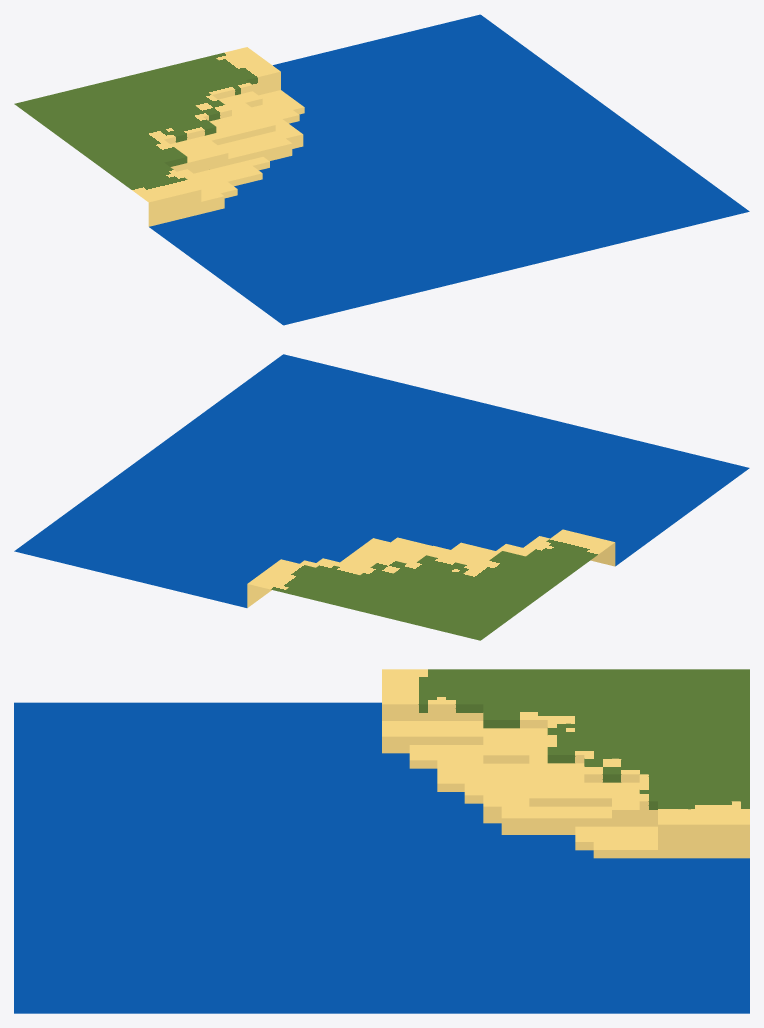
File: LWWW(1).glb
3 renders of one model, top to bottom at view 1: azimuth 30°, elevation 25°; view 2: azimuth 150°, elevation 25°; view 3: azimuth 270°, elevation 25°, orthographic. The views are drawn at different scales.
Parts seen in each view (by area): view 1: model_0; view 2: model_0; view 3: model_0.
Boxes of the visible parts, x1,y1,x2,y2 form: model_0: [14, 14, 749, 325]; model_0: [14, 354, 749, 640]; model_0: [14, 669, 749, 1013].
Bounding box in the file's own units: 80 × 4 × 80.
Materials: 1 (1 with a texture image).
